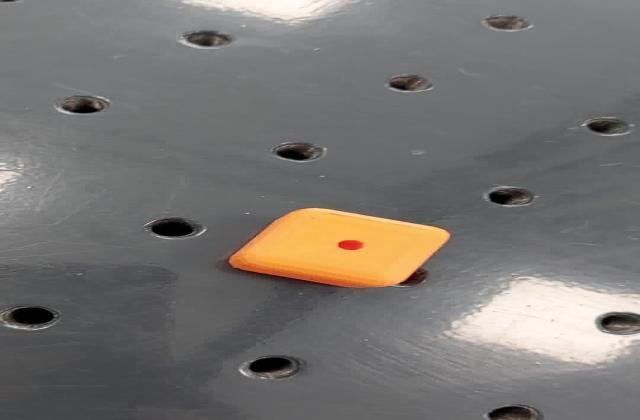cube: (219, 205, 456, 290)
